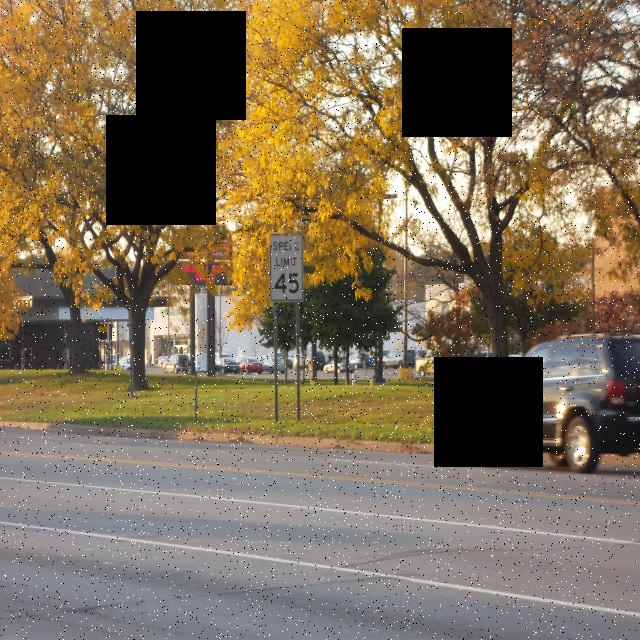regulatory: (266, 228, 306, 302)
